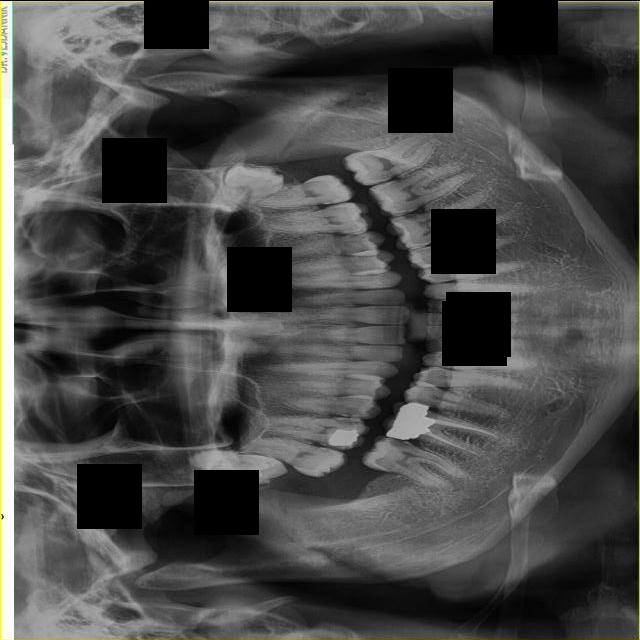74: (422, 428, 481, 456), (433, 418, 497, 436)
NucleOSS Implant: (328, 427, 359, 446), (412, 411, 435, 435)
Sterngold Implant: (318, 438, 347, 453), (328, 417, 363, 428), (408, 394, 434, 407), (337, 406, 366, 417), (385, 438, 416, 448), (397, 212, 424, 223), (346, 232, 369, 241), (316, 446, 336, 455), (324, 202, 346, 210), (343, 225, 361, 234), (394, 207, 414, 215), (321, 197, 339, 204), (372, 176, 387, 183), (376, 181, 391, 187)
Zimmer Implant: (377, 391, 430, 447)
